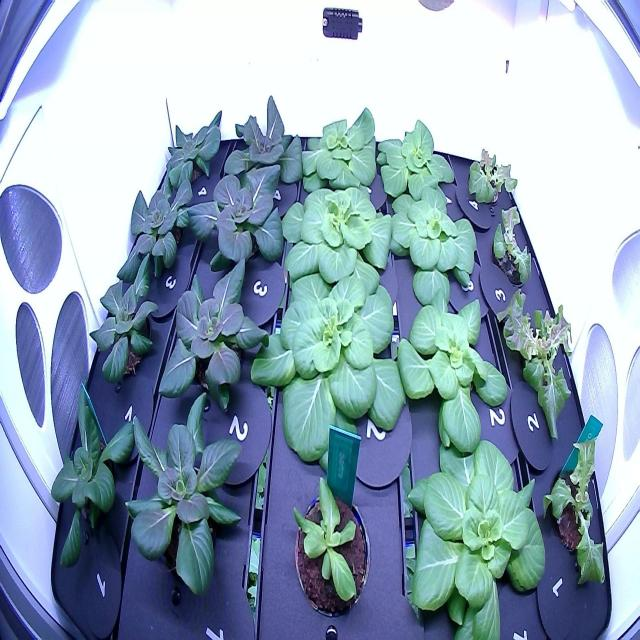young: (238, 266, 418, 474), (395, 423, 550, 639), (120, 384, 252, 610), (384, 278, 518, 470), (150, 250, 286, 420), (39, 371, 145, 581), (181, 152, 299, 294), (278, 467, 377, 622), (273, 173, 401, 288), (380, 177, 485, 313), (110, 164, 208, 300), (214, 83, 306, 214), (82, 250, 165, 394), (366, 112, 459, 222), (153, 99, 230, 223), (291, 92, 380, 198)
